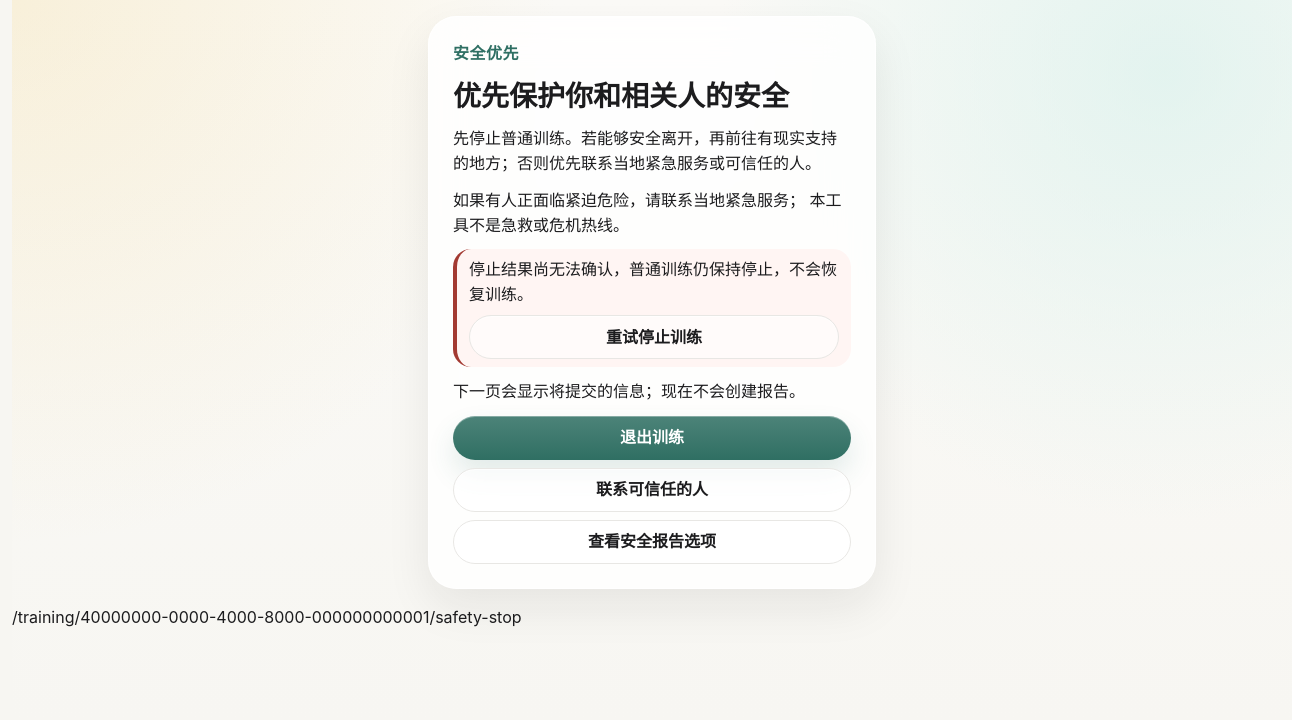
it: training routes › clears the owned report handoff but not an unconfirmed stop on exit
The image size is (1292, 720).
Check: the message shows "停止结果尚无法确认", box [469,259,837,304]
What coordinates should you click on to do the following:
click the button "退出训练"
I would click on:
 (652, 438)
Its box is [453,416,851,460].
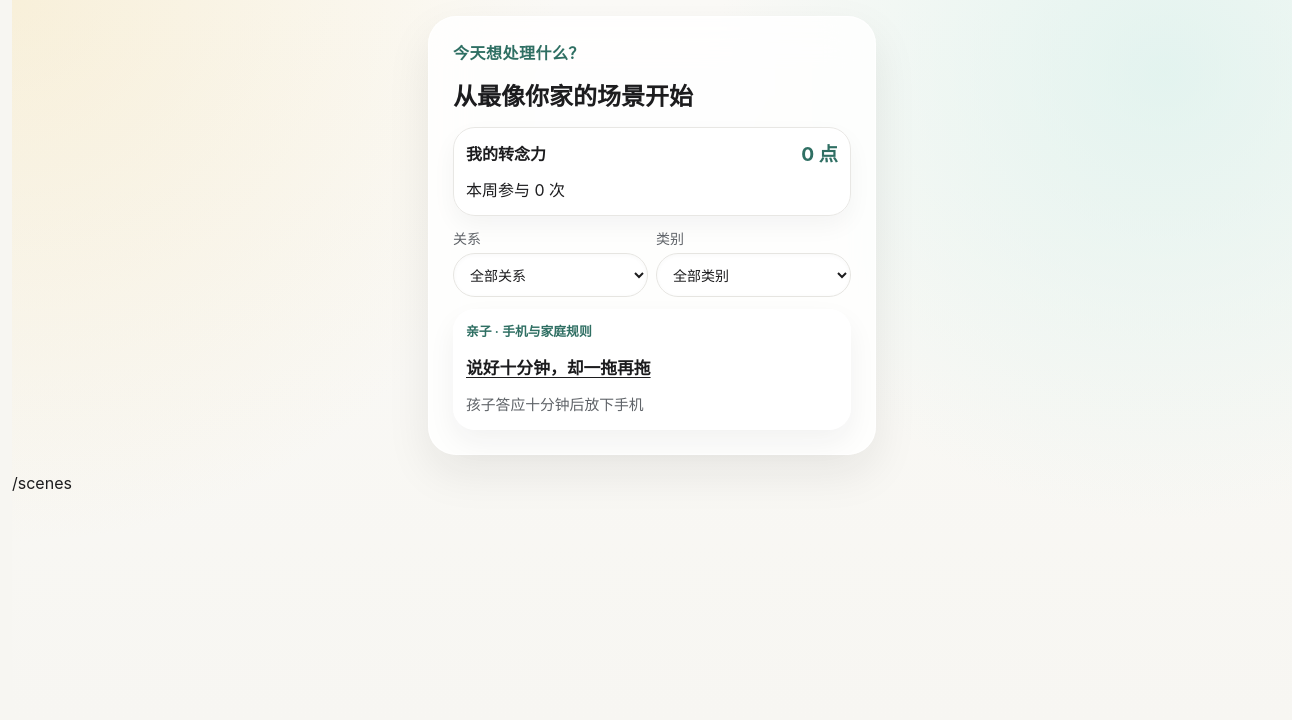
Check: the text with test id "current-path" reads "/scenes", box [12,473,72,493]
